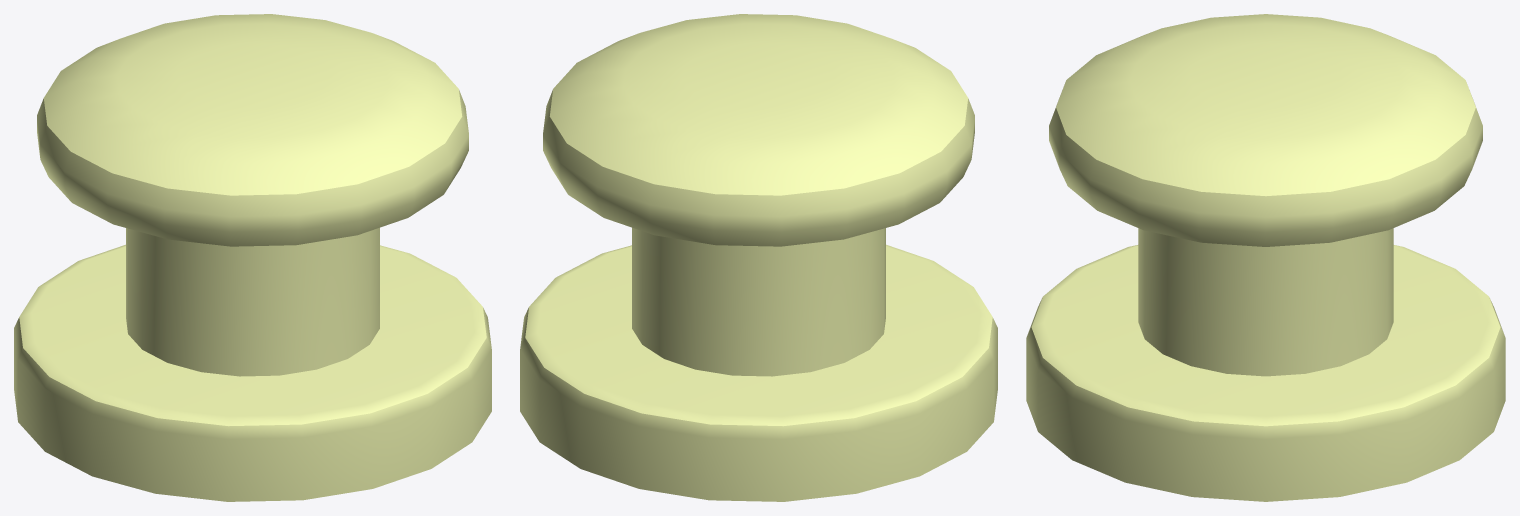
Rendered from Button_V1.fbx.
3 renders of one model, left to right at view 1: azimuth 30°, elevation 25°; view 2: azimuth 150°, elevation 25°; view 3: azimuth 270°, elevation 25°, orthographic.
Visible parts, largest first — view 1: button1_top, button1_base; view 2: button1_top, button1_base; view 3: button1_top, button1_base.
Boxes of the visible parts, x1,y1,x2,y2 form: button1_top: (37,14,468,376); button1_base: (14,244,491,501); button1_top: (543,14,974,376); button1_base: (520,244,997,501); button1_top: (1049,14,1482,376); button1_base: (1026,245,1505,501).
Size of the model in its own units: 0.2368 by 0.177 by 0.2368.
